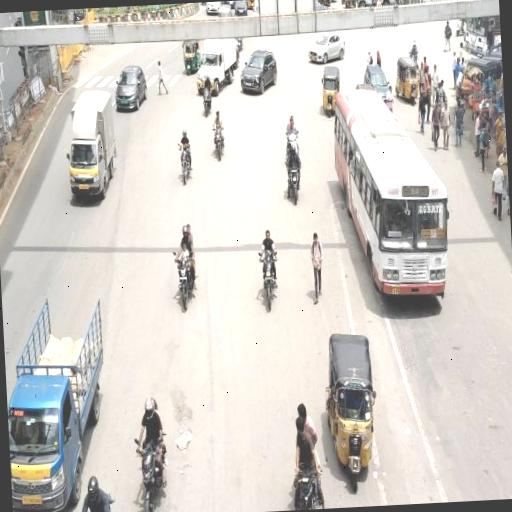helmet: (172, 220, 201, 310)
